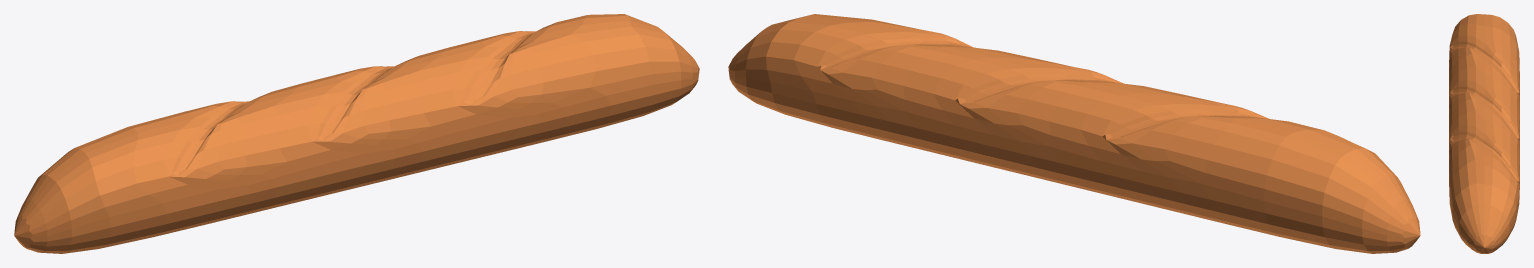
The model's file is Baugette.fbx.
3 renders of one model, left to right at view 1: azimuth 30°, elevation 25°; view 2: azimuth 150°, elevation 25°; view 3: azimuth 270°, elevation 25°, orthographic. The views are drawn at different scales.
Visible parts, largest first — view 1: Куб; view 2: Куб; view 3: Куб.
Boxes of the visible parts, x1,y1,x2,y2 form: Куб: [14, 14, 699, 253]; Куб: [728, 14, 1420, 253]; Куб: [1449, 14, 1519, 253].
Size of the model in its own units: 714 by 99.79 by 100.
